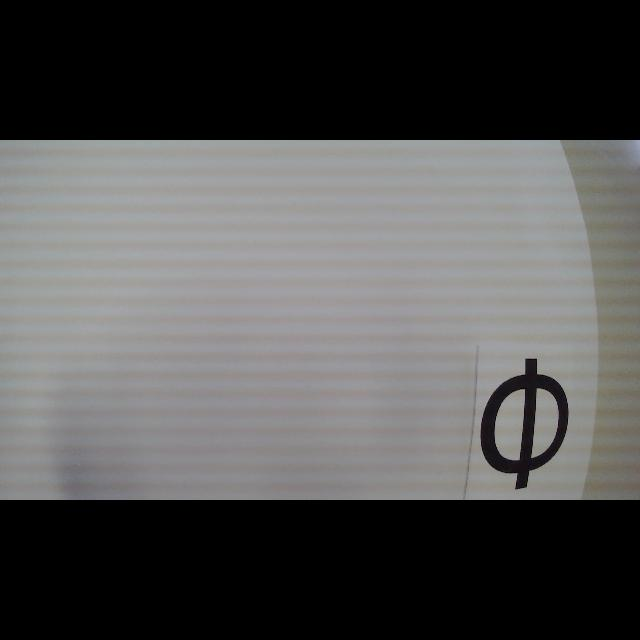PHI: (480, 358, 570, 490)
